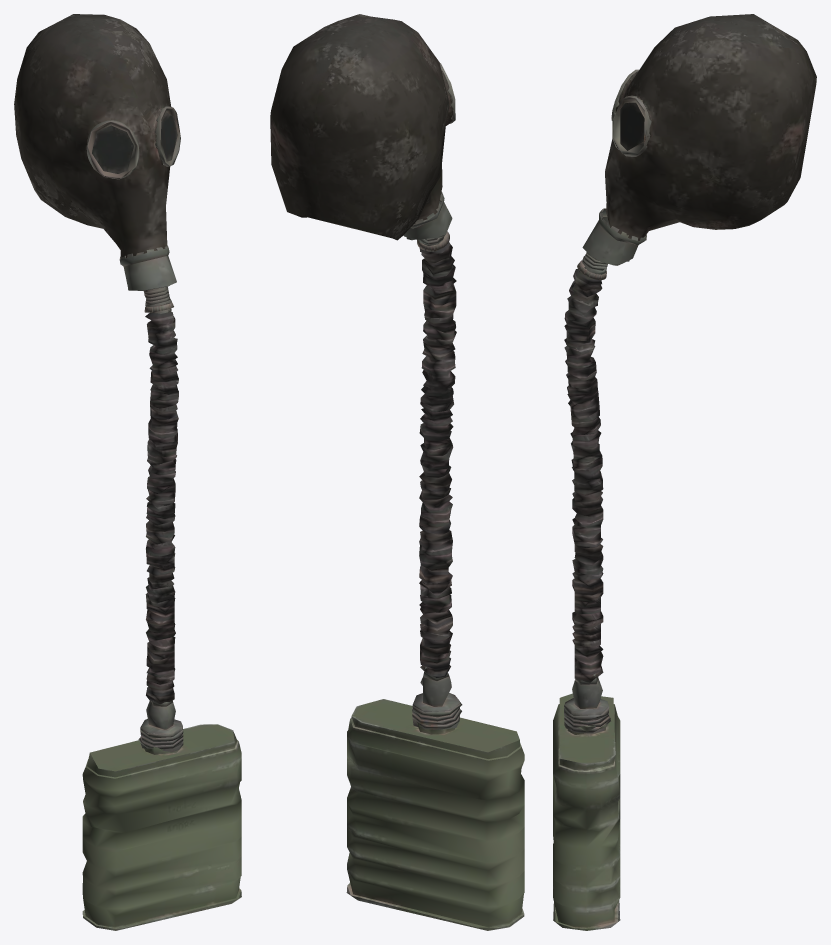
File: gasmask.glb
3 views of the same model, side by side, from view 1: azimuth 30°, elevation 25°; view 2: azimuth 150°, elevation 25°; view 3: azimuth 270°, elevation 25° (orthographic). The views are drawn at different scales.
Visible parts, largest first — view 1: old_gas_mask; view 2: old_gas_mask; view 3: old_gas_mask.
Boxes of the visible parts, <box> form: old_gas_mask: <box>14,14,241,930</box>; old_gas_mask: <box>270,14,524,930</box>; old_gas_mask: <box>553,14,816,930</box>.
Size of the model in its own units: 0.2105 by 1.13 by 0.3086.
1 material, 1 textured.
